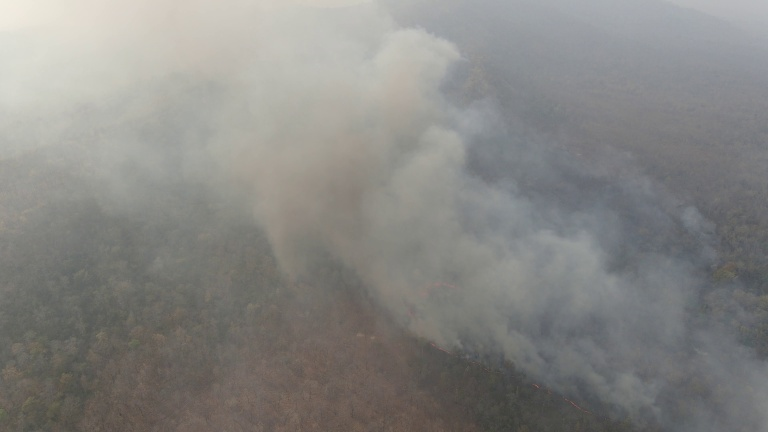fire: (533, 380, 587, 414), (406, 278, 461, 301), (427, 338, 455, 356)
smoke: (238, 30, 543, 371), (455, 225, 752, 415)
